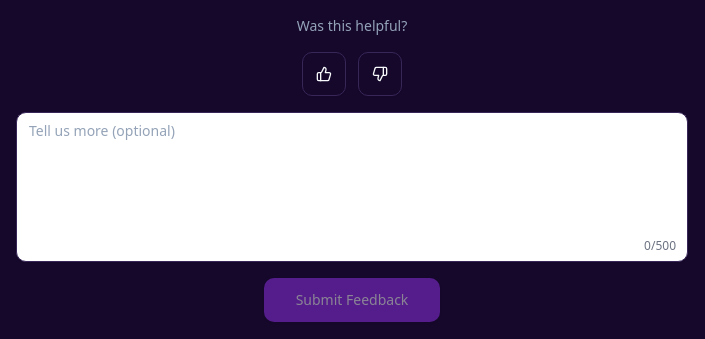
Test: FeedbackButtons › should display error message on API failure
Click the button named "Thumbs up - This interpretation was helpful" at [324, 74], box [302,52,346,96]
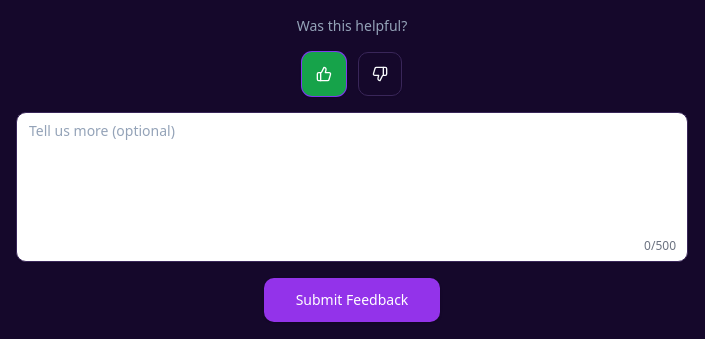
Click the button "Submit Feedback" at [352, 300], box [264,278,440,322]
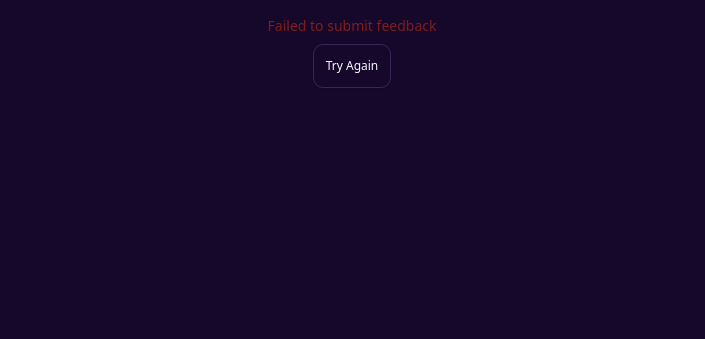
Check: the text "Failed to submit feedback" is shown, box [268,16,436,36]
Check: the button "Try Again" is shown, box [313,44,391,88]
